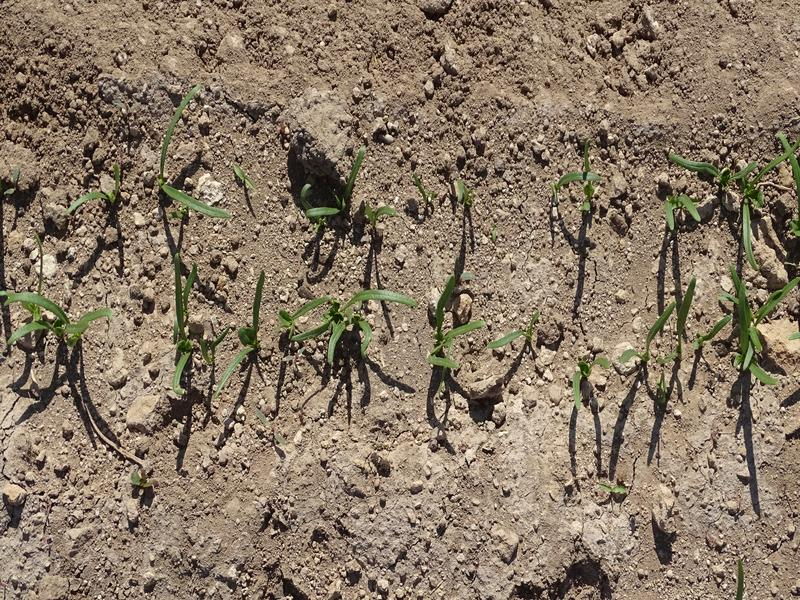Espinaca: (663, 132, 789, 259), (157, 82, 234, 220), (279, 280, 398, 369), (717, 263, 798, 380), (297, 156, 394, 239), (7, 285, 114, 350), (624, 277, 706, 361), (217, 267, 270, 394), (168, 259, 204, 391), (66, 164, 124, 212), (559, 144, 601, 209), (433, 320, 479, 372), (567, 358, 604, 404)
